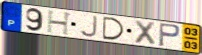9: (25, 8, 45, 32)
D: (102, 16, 127, 41)
H: (46, 9, 74, 37)
J: (78, 15, 98, 38)
P: (158, 22, 182, 48)
X: (133, 19, 157, 47)
